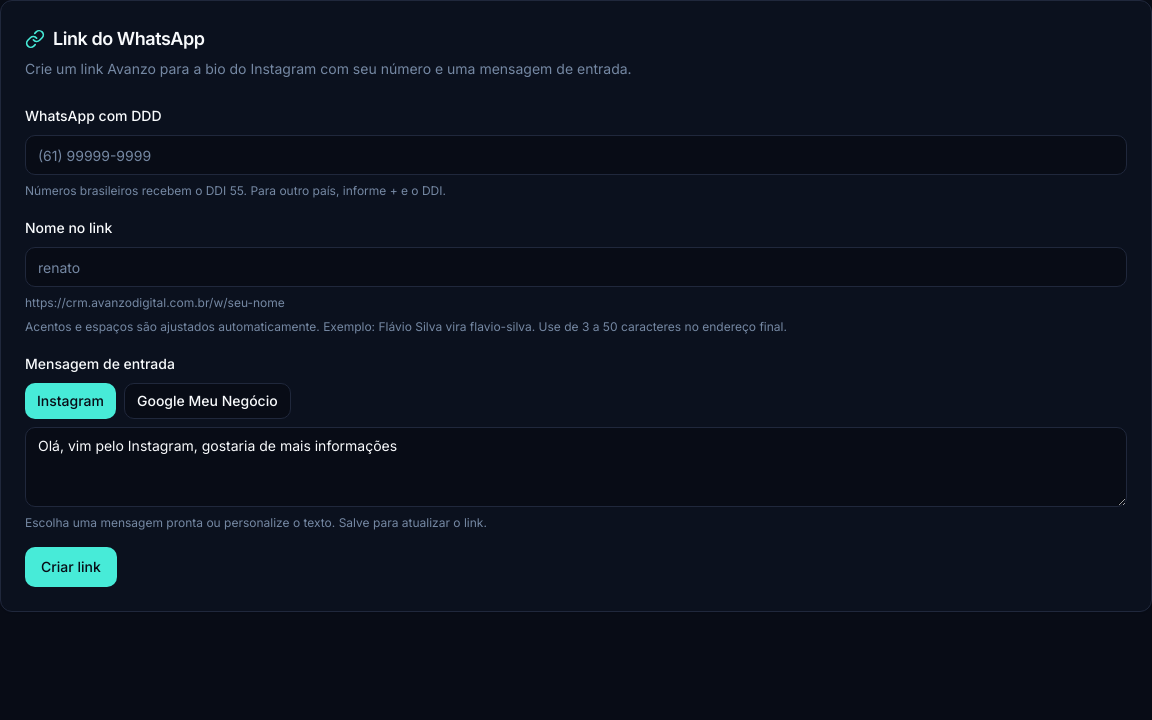
WhatsApp bio links › creates a link from an accented client name using the same address shown in the preview
The image size is (1152, 720).
Type "61999999999" into the field labelled "WhatsApp com DDD" at x=576, y=155, box [25,135,1127,175]
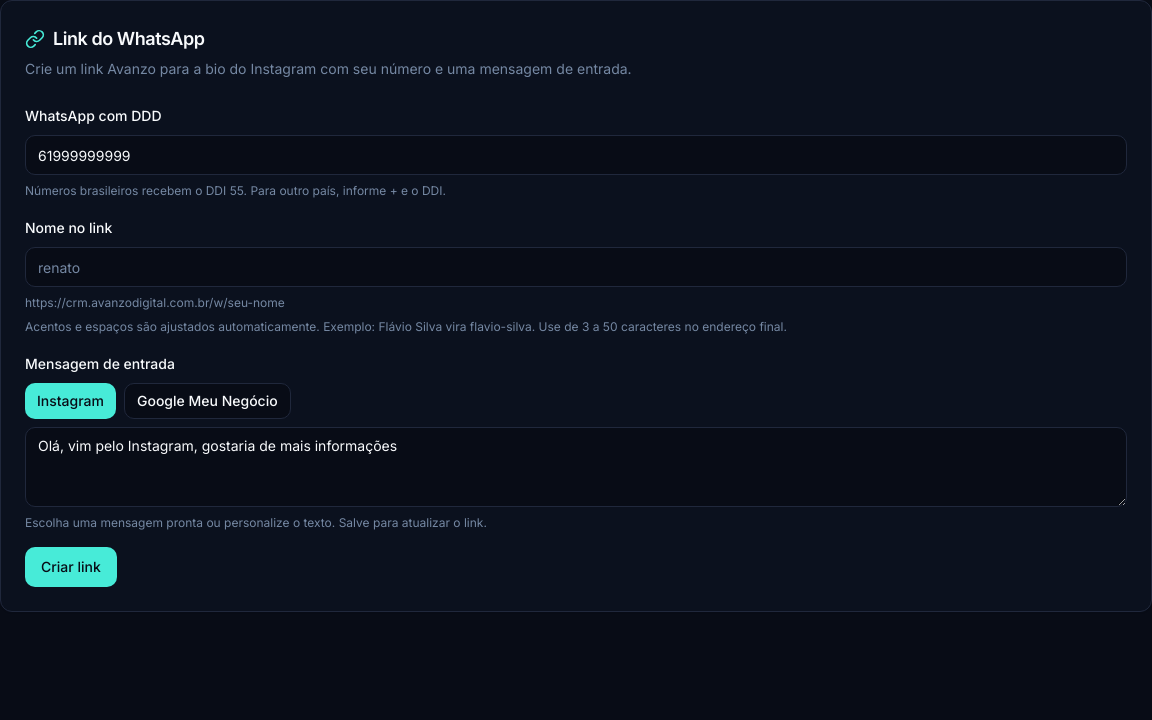
Type "  Flávio Silva  " into the field labelled "Nome no link" at x=576, y=267, box [25,247,1127,287]
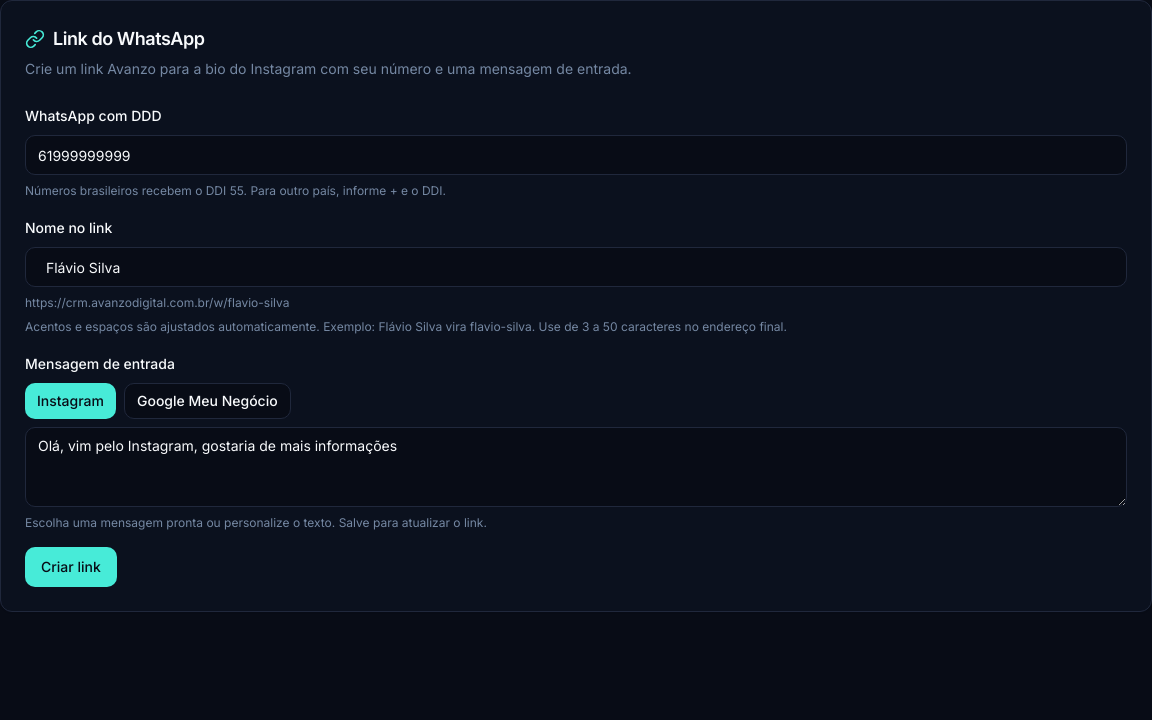
Expected: the text "https://crm.avanzodigital.com.br/w/flavio-silva" is shown, [25,295,290,310]
Click the button "Criar link" at x=71, y=567, box [25,547,117,587]
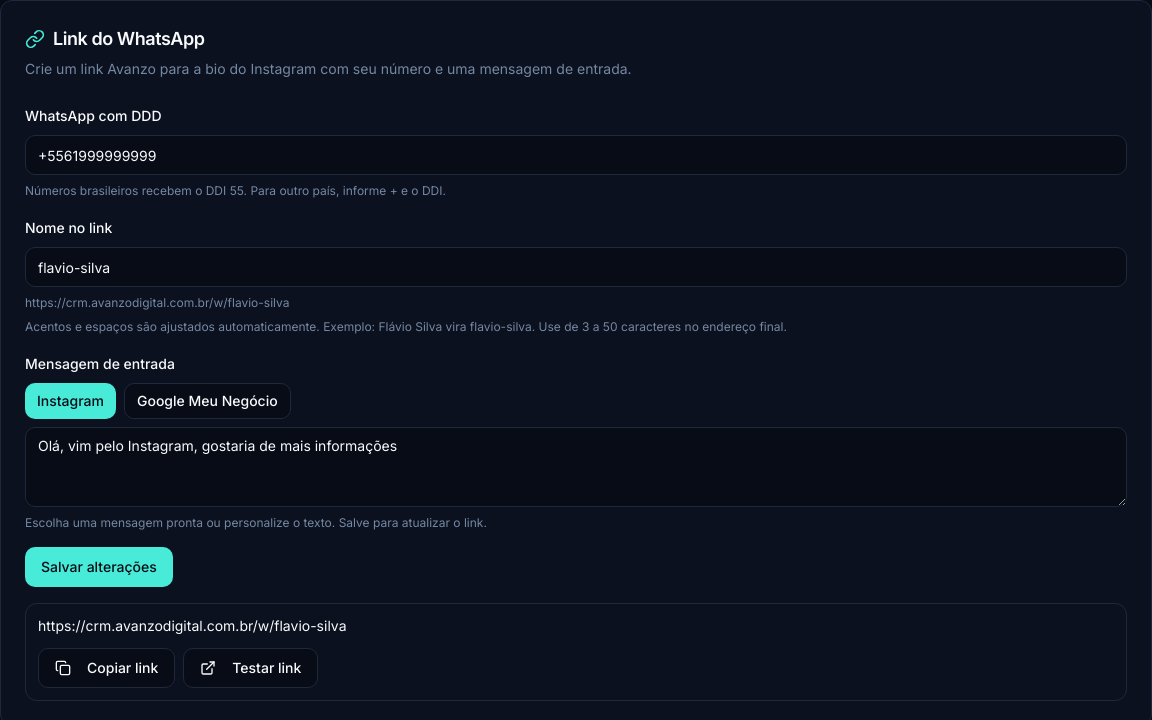
Expected: the field labelled "Nome no link" holds "flavio-silva", [25,247,1127,287]
